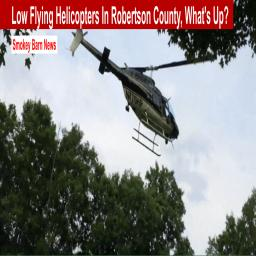helicopter: (72, 29, 220, 159)
